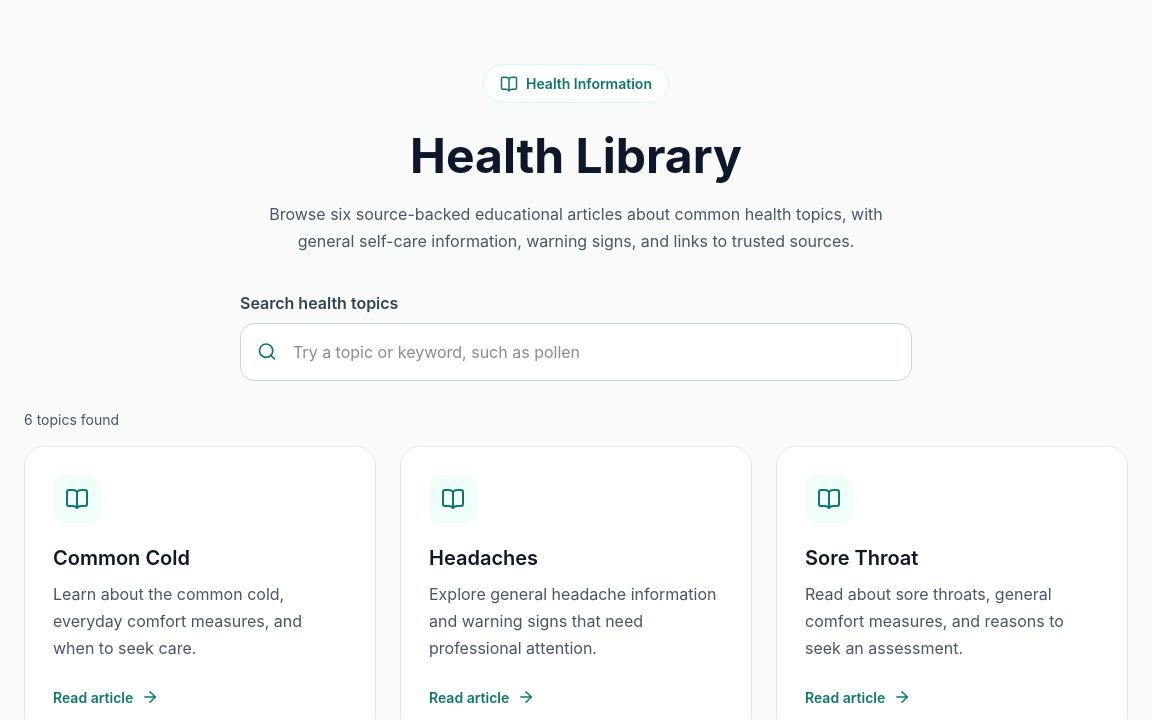
Test case: Health Library browsing › filters search Headaches to Headaches
Type "Headaches" into the search field labelled "Search health topics" at (592,352), box left=289, top=336, right=895, bottom=368
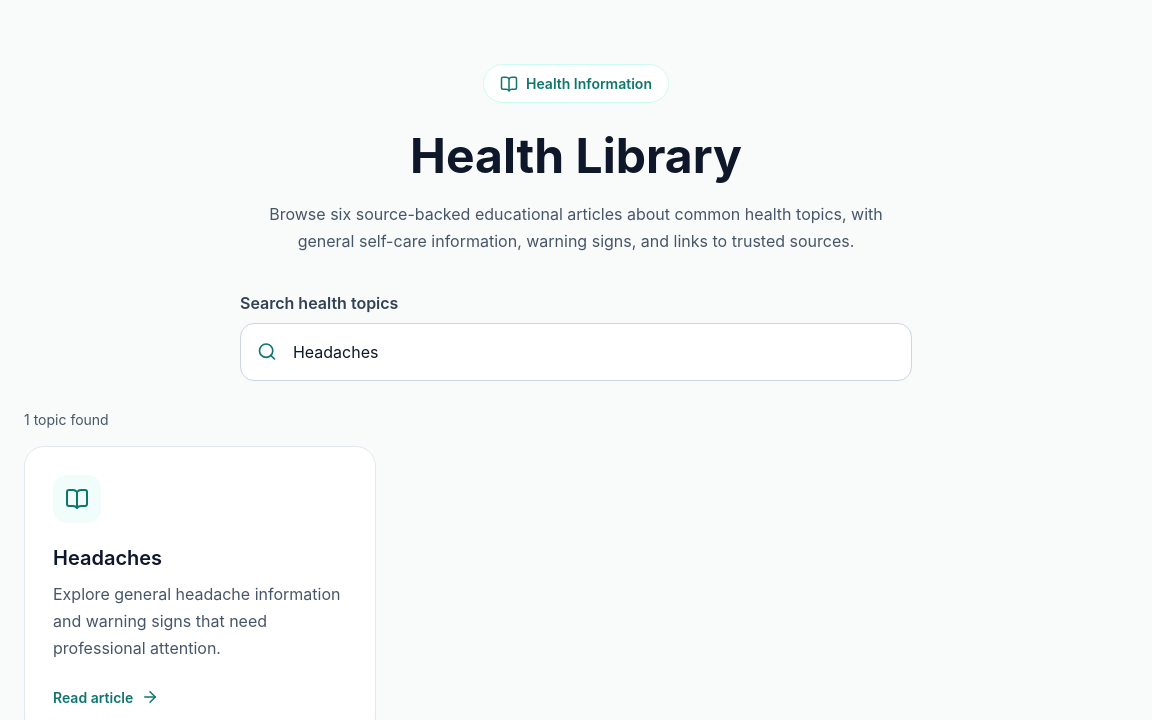
Expected: the heading "Headaches" is shown, left=53, top=546, right=162, bottom=570
Expected: the message reads "1 topic found", left=24, top=411, right=109, bottom=428
